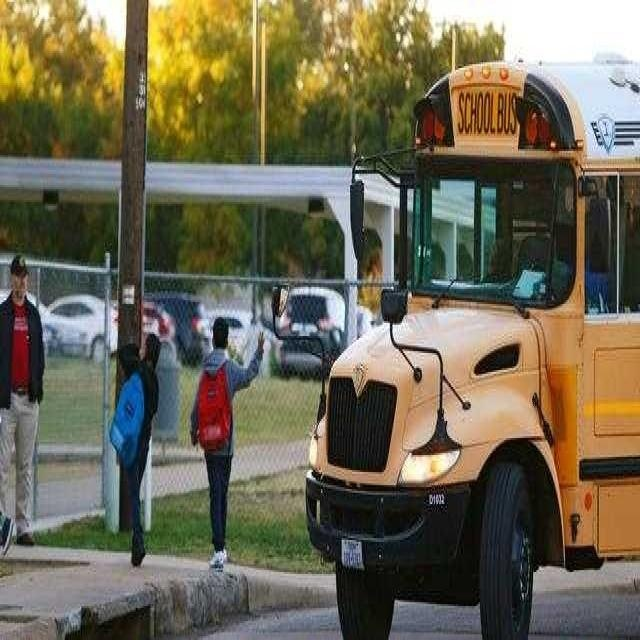Bus: (300, 43, 640, 640)
